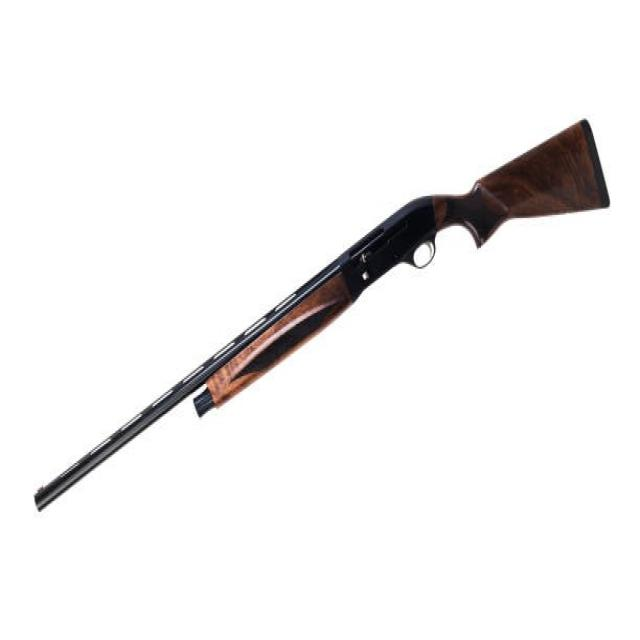rifle: (26, 104, 616, 518)
